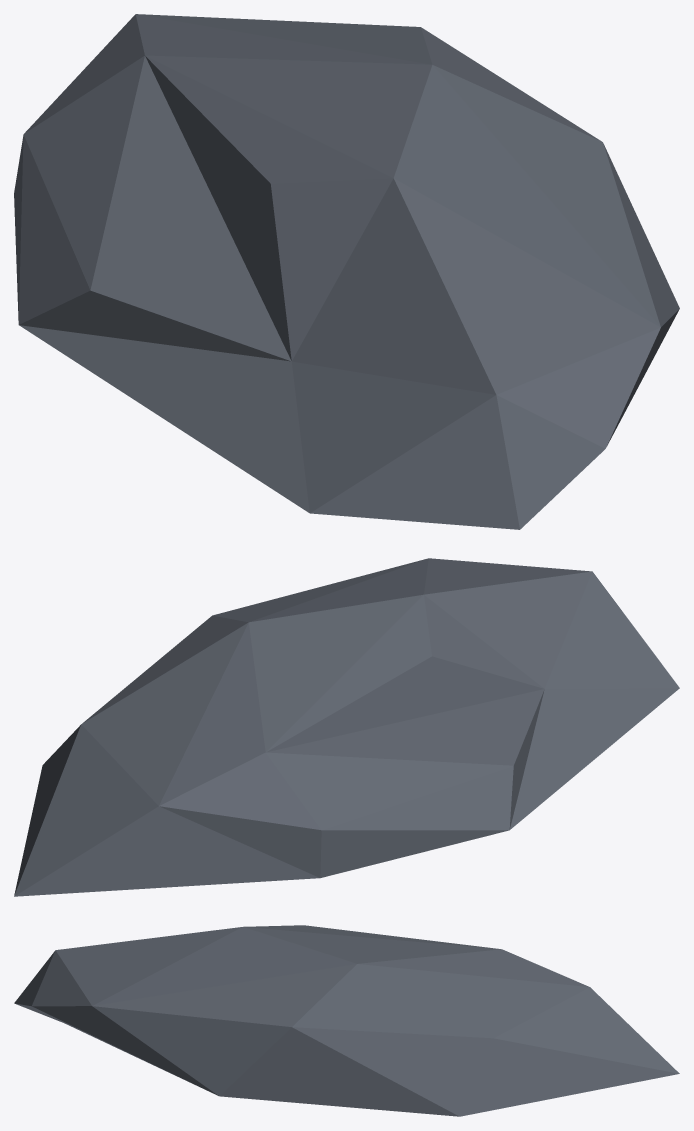
Rendered from Rock_5.fbx.
The picture shows the model from 3 angles, top to bottom: view 1: azimuth 30°, elevation 25°; view 2: azimuth 150°, elevation 25°; view 3: azimuth 270°, elevation 25°; orthographic projection. The views are drawn at different scales.
Visible parts, largest first — view 1: Rock_5; view 2: Rock_5; view 3: Rock_5.
Boxes of the visible parts, x1,y1,x2,y2 form: Rock_5: (14, 14, 679, 529); Rock_5: (14, 558, 679, 896); Rock_5: (14, 925, 679, 1116).
Size of the model in its own units: 929 by 274 by 1656.
